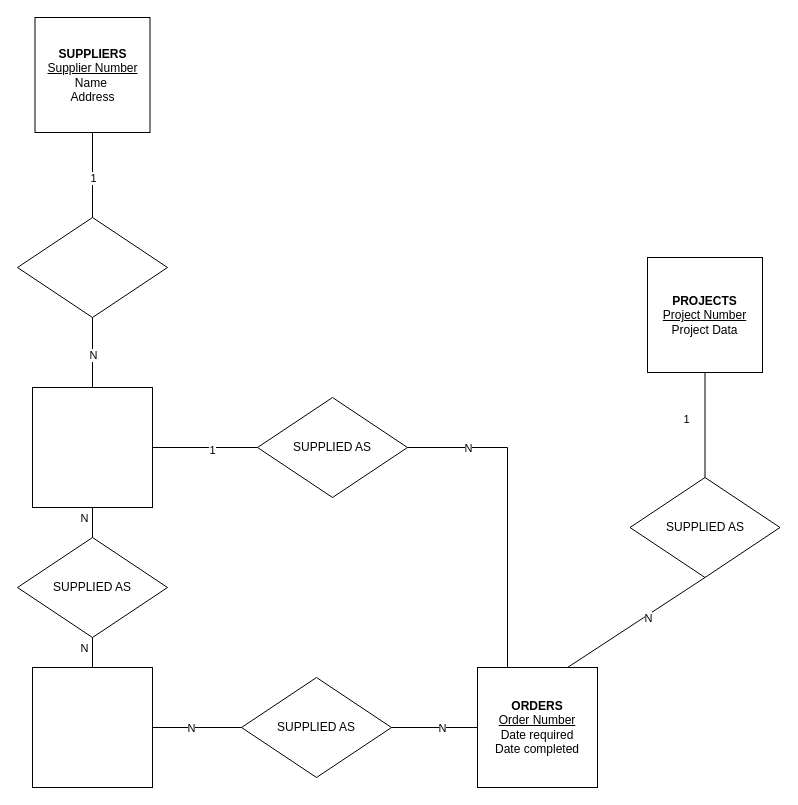
Some shapes in this 798 by 805 pixel diagram are drawn without their labels. The shapes that lost their labels are listed below. From the top down, each one's box as (x1, y1, x2, y2) in pixels, then its label:
(16, 216, 168, 318): NEGOTIATE Date of Contract
(32, 386, 152, 508): CONTRACTS Contract Number Text
(32, 666, 152, 788): ITEMS Item Number Description
